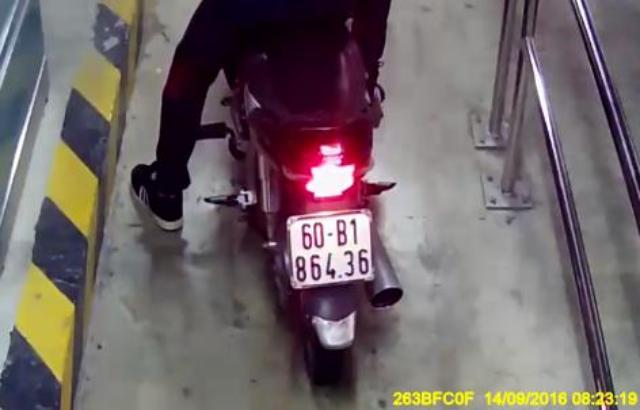plate: (276, 211, 378, 293)
